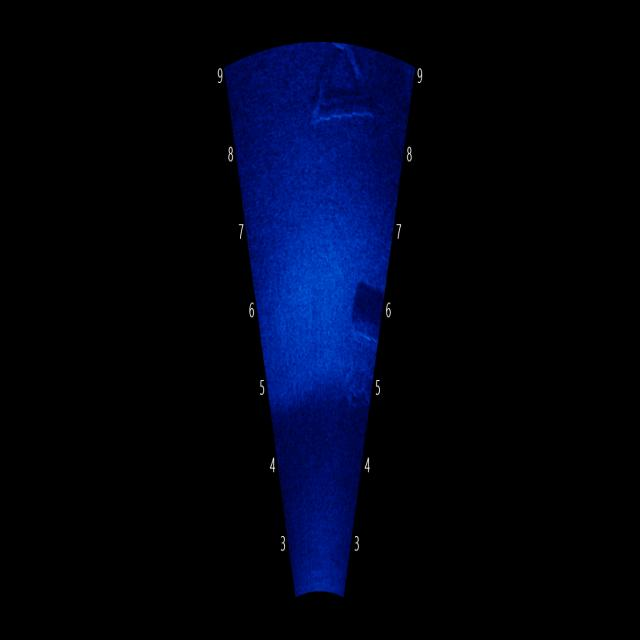square: (351, 268, 388, 348)
triangle: (307, 18, 382, 144)
